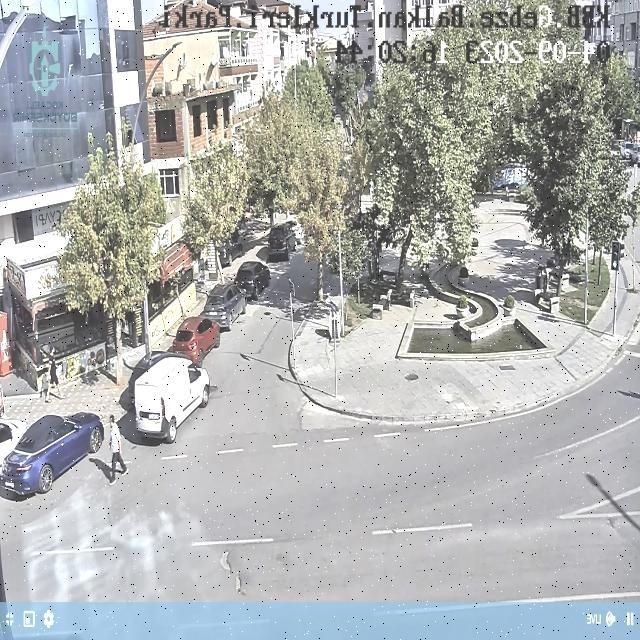Car: (0, 409, 105, 498), (172, 314, 221, 368), (202, 283, 248, 332), (232, 259, 271, 302), (267, 222, 298, 261)
Van: (134, 355, 212, 444)
